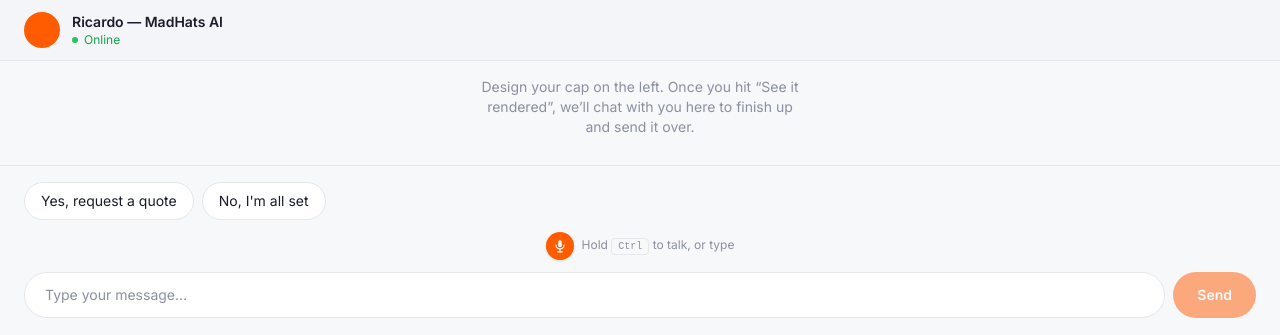
Scenario: ChatColumn › leaves a v1 canvas session answerable at the same quote_requested state
This screenshot has width=1280, height=335.
Type "hello" into the field with placeholder "Type your message…".
click(595, 295); type("hello")  # box x1=24 y1=272 x2=1165 y2=318
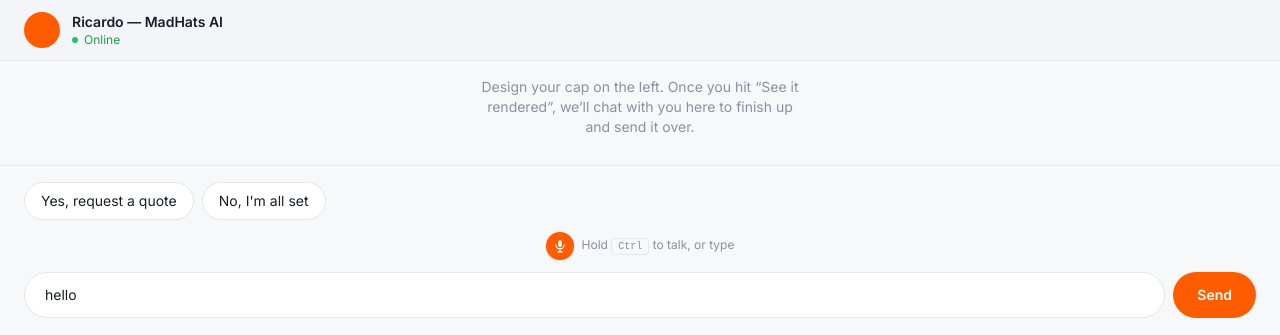
Expected: the button "Yes, request a quote" is enabled, x1=24 y1=182 x2=194 y2=220
Expected: the button "Send" is enabled, x1=1173 y1=272 x2=1256 y2=318
